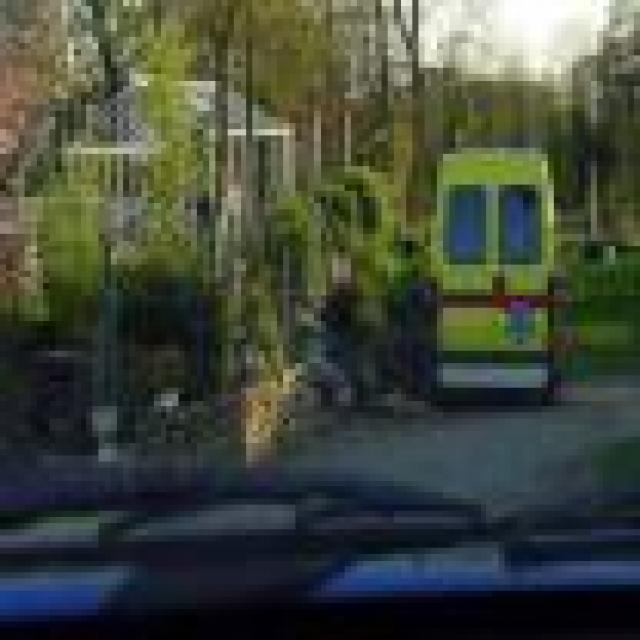emergency-vehicle: (428, 138, 564, 404)
